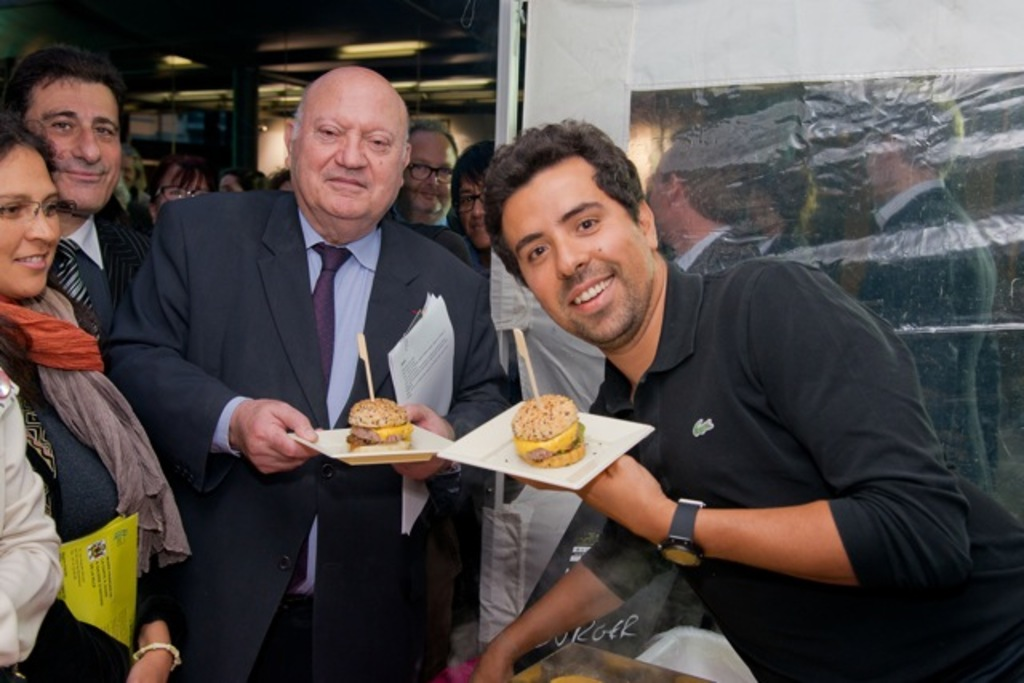Hamburger: (508, 391, 585, 465), (340, 396, 408, 451)
